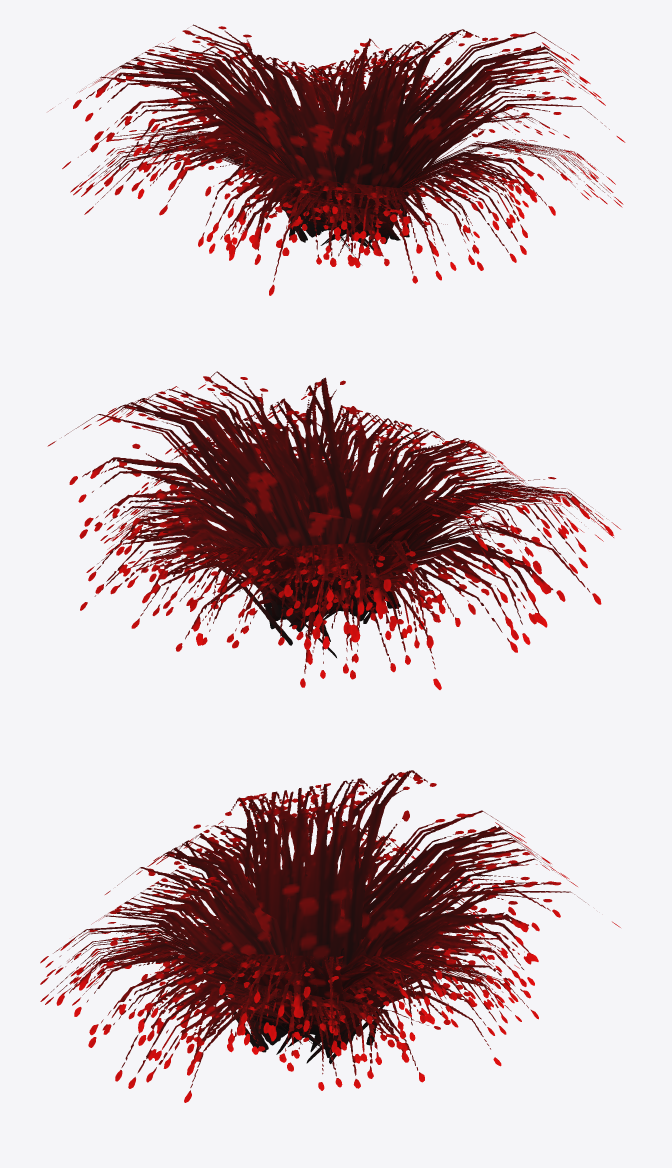
Rendered from bush_volcanic_ashgrass_a.glb.
3 renders of one model, top to bottom at view 1: azimuth 30°, elevation 25°; view 2: azimuth 150°, elevation 25°; view 3: azimuth 270°, elevation 25°, orthographic. The views are drawn at different scales.
Visible parts, largest first — view 1: bush_volcanic_ashgrass_a; view 2: bush_volcanic_ashgrass_a; view 3: bush_volcanic_ashgrass_a.
Boxes of the visible parts, x1,y1,x2,y2 form: bush_volcanic_ashgrass_a: (48, 24, 625, 295); bush_volcanic_ashgrass_a: (47, 371, 620, 689); bush_volcanic_ashgrass_a: (40, 770, 620, 1102).
Size of the model in its own units: 1.24 by 0.4604 by 1.2.
1 material, 1 textured.
